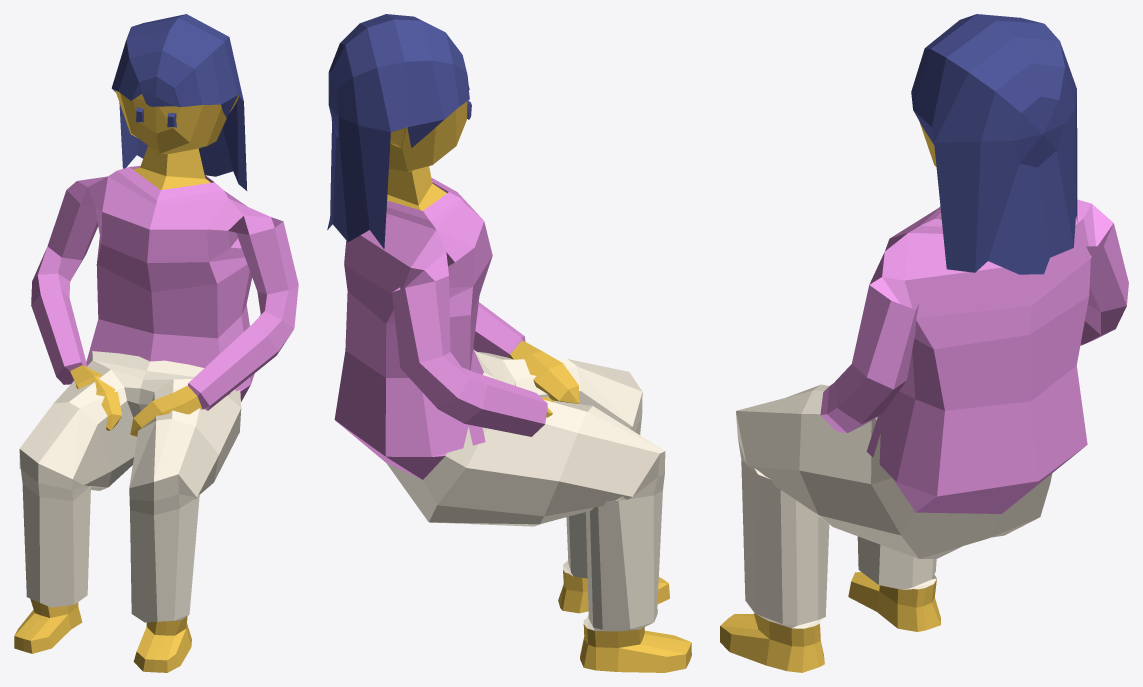
Rendered from 088_聞き手(Woman)001.glb.
The picture shows the model from 3 angles, left to right: view 1: azimuth 30°, elevation 25°; view 2: azimuth 150°, elevation 25°; view 3: azimuth 270°, elevation 25°; orthographic projection. The views are drawn at different scales.
Parts seen in each view (by area): view 1: 立方体046_4, 立方体046_2, 立方体046, 立方体046_1, 立方体046_3; view 2: 立方体046_4, 立方体046_2, 立方体046, 立方体046_1, 立方体046_3; view 3: 立方体046_4, 立方体046, 立方体046_2, 立方体046_1.
Part boxes in pixels (x1,y1,x2,y2): 立方体046_4: [31, 166, 298, 410]; 立方体046_2: [19, 351, 241, 622]; 立方体046: [111, 14, 247, 190]; 立方体046_1: [14, 90, 238, 672]; 立方体046_3: [70, 365, 202, 436]; 立方体046_4: [334, 177, 547, 479]; 立方体046_2: [387, 351, 665, 631]; 立方体046: [327, 14, 471, 248]; 立方体046_1: [387, 101, 691, 672]; 立方体046_3: [508, 341, 578, 417]; 立方体046_4: [820, 199, 1128, 513]; 立方体046: [911, 14, 1077, 274]; 立方体046_2: [736, 384, 1052, 628]; 立方体046_1: [720, 121, 941, 672].
Size of the model in its own units: 0.8693 by 1.62 by 0.8634.
